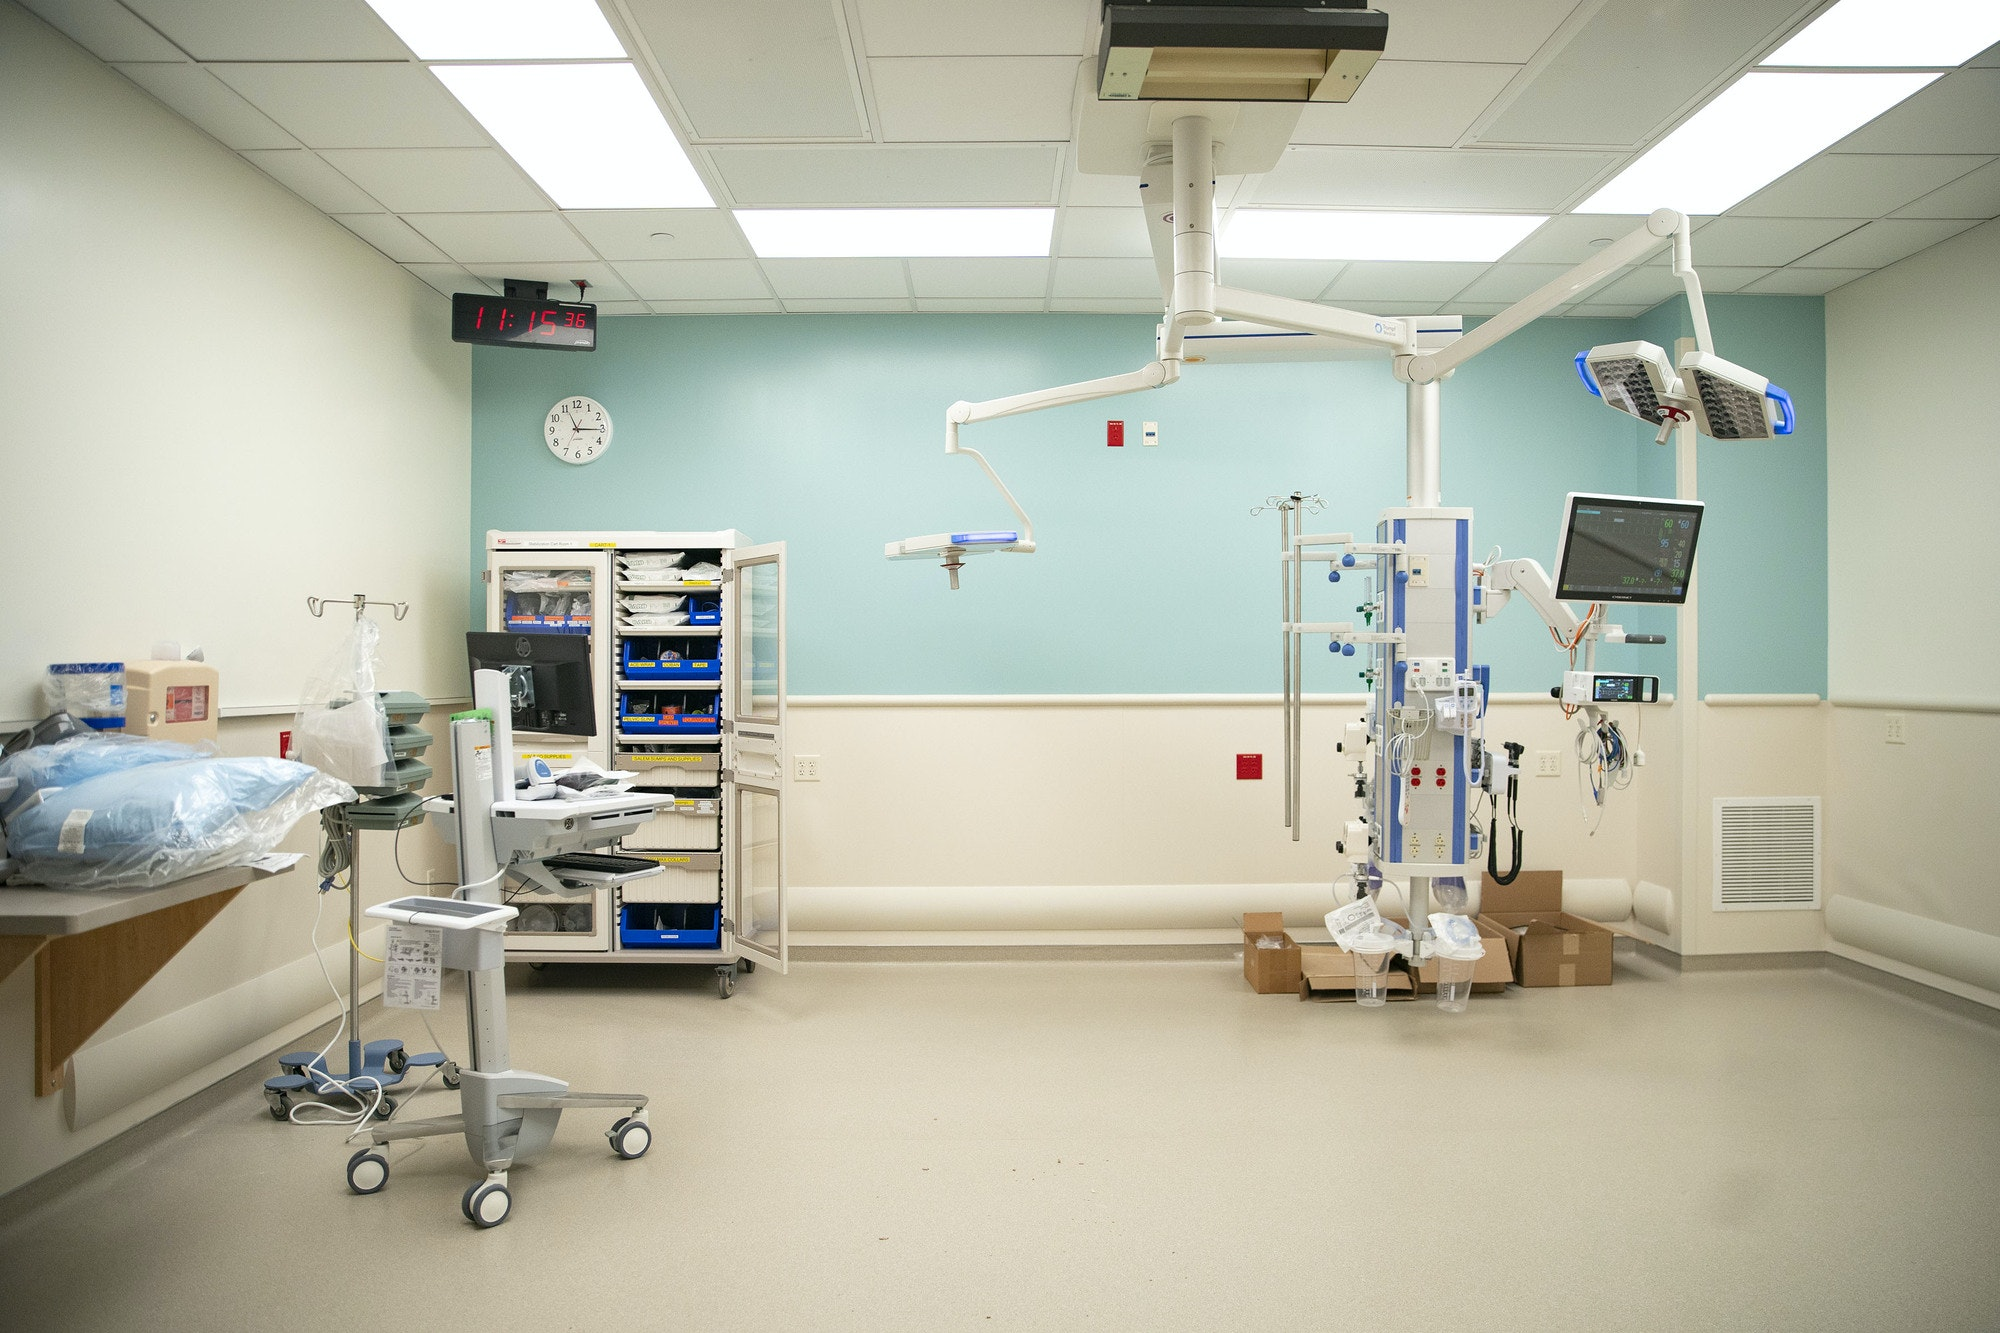bedside_monitor: (1552, 492, 1709, 608)
cabinet: (474, 530, 784, 1010)
computer: (462, 634, 596, 739)
countertop: (1, 847, 286, 928)
iv_pole: (306, 583, 396, 1114)
keyboard: (537, 852, 660, 873)
medical_waste_container: (129, 652, 220, 751)
surgical_light: (1578, 323, 1810, 500), (868, 518, 1042, 608)
